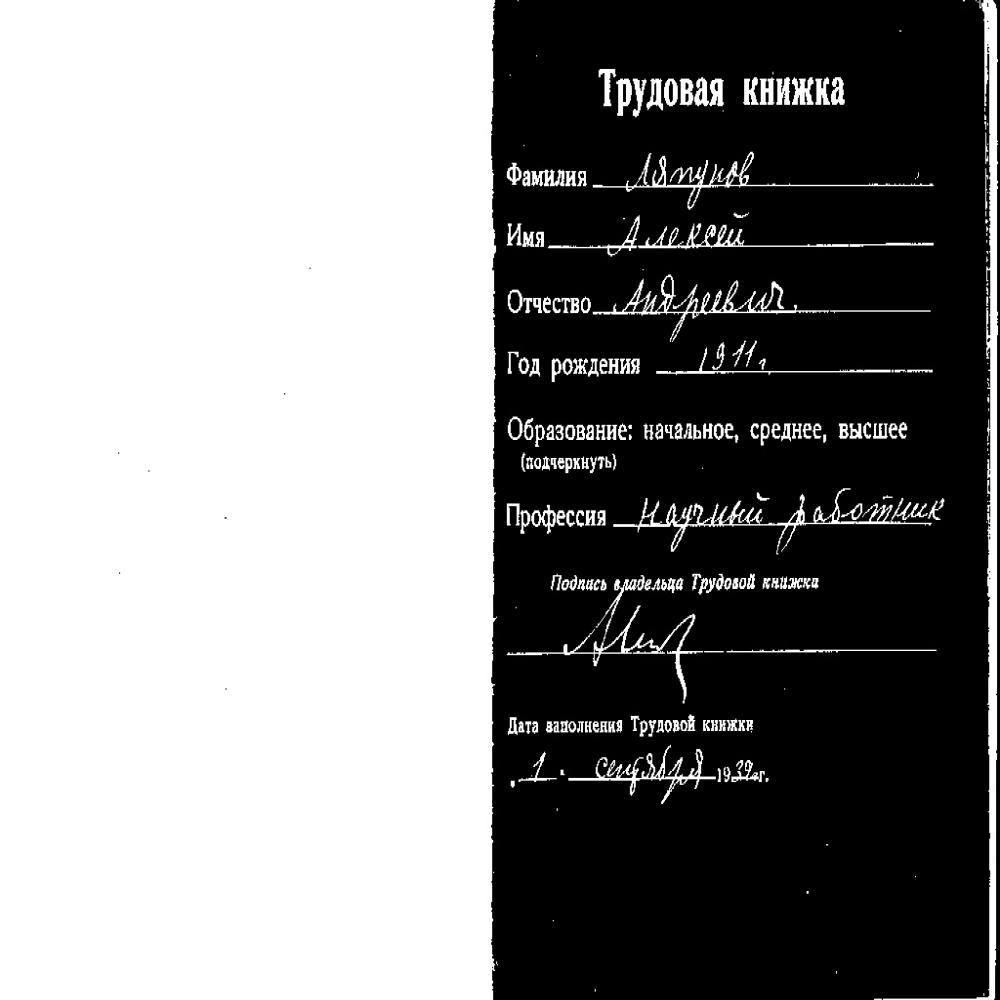rus: (630, 488, 950, 541), (608, 269, 805, 324), (586, 62, 728, 119), (615, 140, 763, 192), (738, 62, 858, 123), (602, 208, 752, 255), (591, 743, 711, 798), (498, 412, 630, 450), (505, 494, 612, 538), (501, 152, 588, 193), (506, 282, 591, 318), (520, 451, 625, 477), (551, 350, 644, 378), (644, 416, 736, 442), (748, 417, 822, 444), (500, 213, 545, 256), (542, 568, 608, 597), (690, 568, 755, 595), (629, 712, 697, 737), (838, 420, 910, 442), (614, 572, 682, 595), (511, 749, 554, 785), (505, 347, 545, 385), (546, 715, 622, 735), (701, 712, 758, 734), (761, 574, 823, 592), (689, 337, 713, 377), (713, 336, 729, 379), (504, 714, 542, 732), (732, 752, 753, 782), (746, 334, 763, 367), (731, 336, 745, 372), (716, 760, 730, 788)
